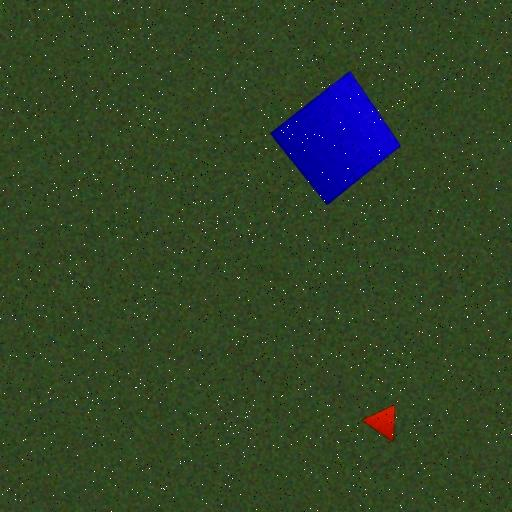BLUE_SQUARE: (268, 70, 402, 206)
